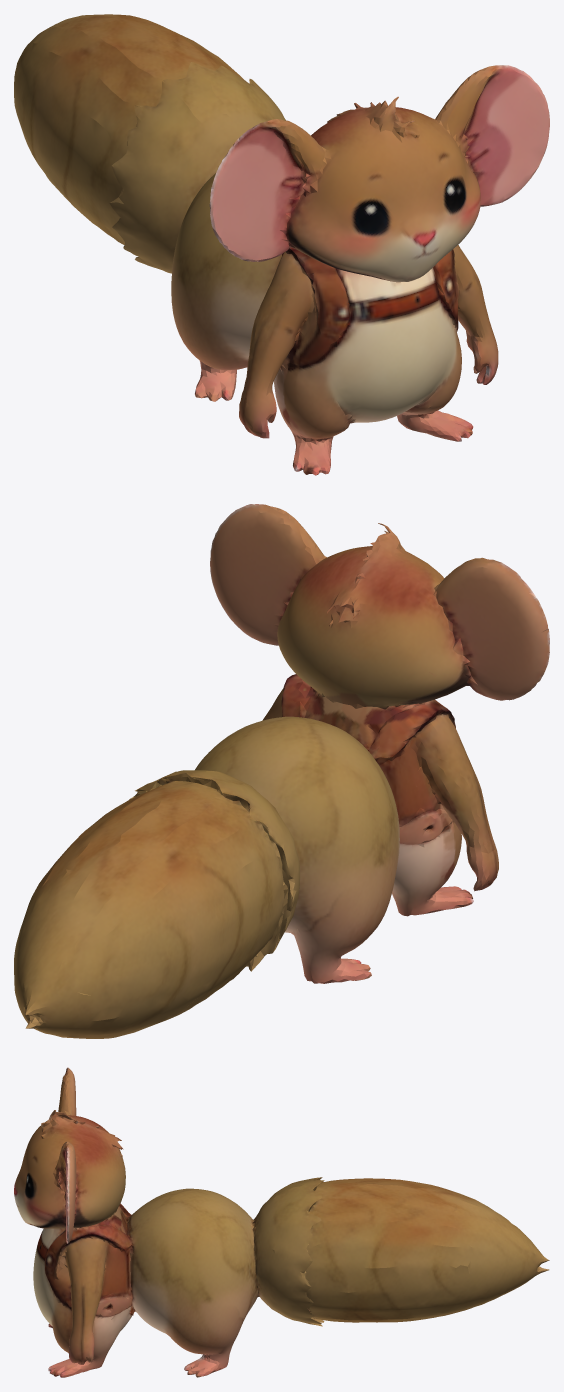
Rendered from rodin_Lab_NpcDelver_raw.glb.
3 views of the same model, one above another, from view 1: azimuth 30°, elevation 25°; view 2: azimuth 150°, elevation 25°; view 3: azimuth 270°, elevation 25° (orthographic). The views are drawn at different scales.
Parts seen in each view (by area): view 1: model; view 2: model; view 3: model.
Part boxes in pixels (left/top/right/bottom): model: left=14, top=14, right=549, bottom=475; model: left=14, top=504, right=549, bottom=1038; model: left=14, top=1067, right=549, bottom=1377.
Size of the model in its own units: 0.9447 by 0.943 by 1.9.
1 material, 1 textured.
